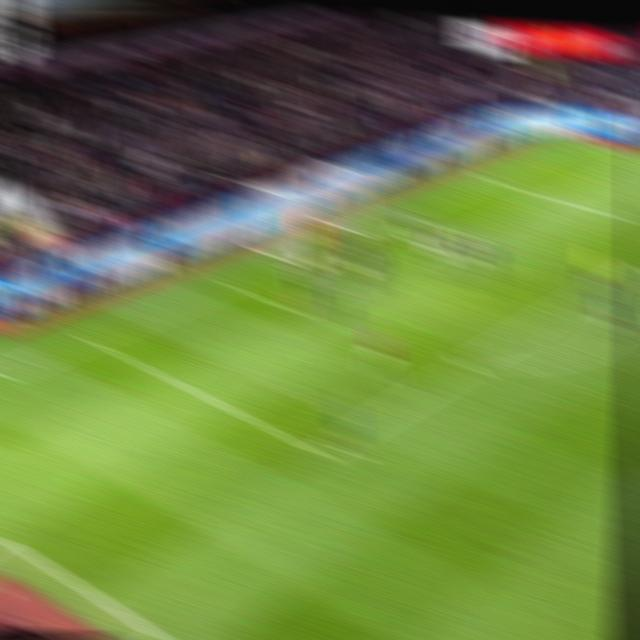bigarea_bottom_inner: (303, 435, 340, 469)
bigarea_bottom_outter: (74, 326, 106, 351)
bigarea_top_outter: (469, 166, 500, 188)
bottom_arc_area_intersection: (451, 351, 483, 377)
corner: (559, 131, 593, 151)
smallarea_bottom_inner: (278, 296, 311, 324)
smallarea_bottom_outter: (214, 271, 245, 293)
smallarea_top_inner: (448, 224, 478, 245)
smallarea_top_outter: (389, 200, 419, 222)
top_arc_area_intersection: (586, 275, 617, 296)
